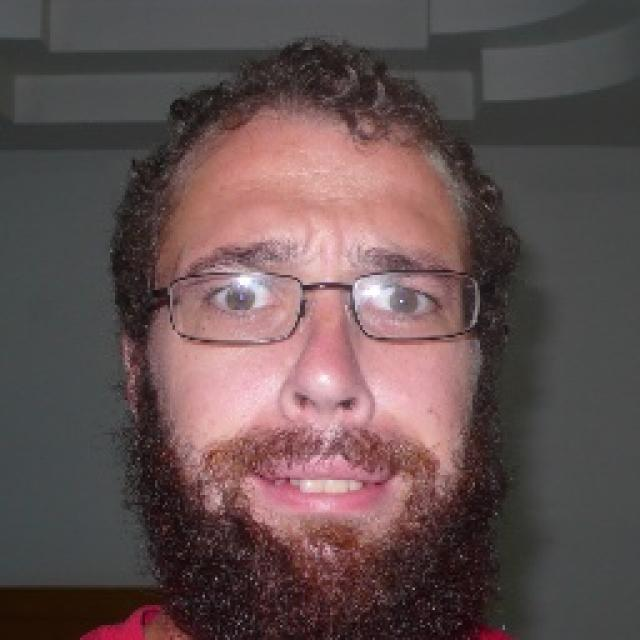eye: (201, 279, 281, 315), (364, 285, 444, 319)
nose: (279, 402, 376, 448)
wholeear: (119, 331, 142, 427)
